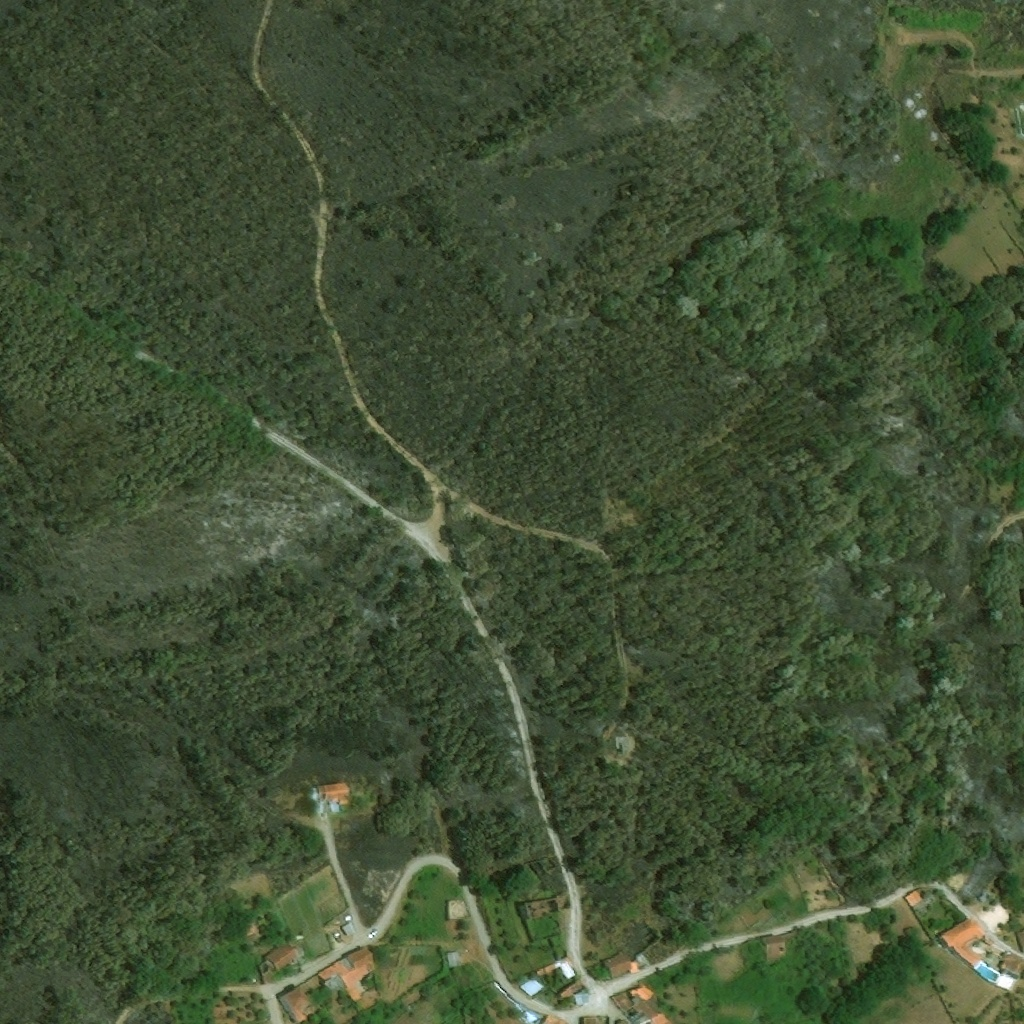0 no-damage: (316, 943, 382, 1003), (940, 914, 987, 949), (280, 983, 315, 1023), (762, 927, 800, 963), (630, 982, 662, 1017), (604, 951, 642, 978), (536, 955, 577, 980), (524, 895, 568, 918), (267, 940, 300, 970), (954, 941, 984, 969), (519, 974, 547, 997), (556, 978, 584, 1000), (240, 919, 263, 945), (325, 781, 351, 804), (444, 897, 469, 920), (1001, 951, 1023, 974), (903, 888, 924, 906), (445, 951, 463, 968), (520, 1009, 541, 1023), (650, 1011, 674, 1023), (340, 921, 355, 937), (616, 735, 628, 753), (542, 1014, 565, 1023), (573, 987, 587, 1000), (316, 782, 326, 798), (315, 798, 325, 814), (584, 1015, 597, 1023), (309, 786, 317, 798), (332, 797, 339, 804)
4 un-classified: (975, 886, 997, 904), (1015, 929, 1023, 953), (882, 6, 894, 21)
